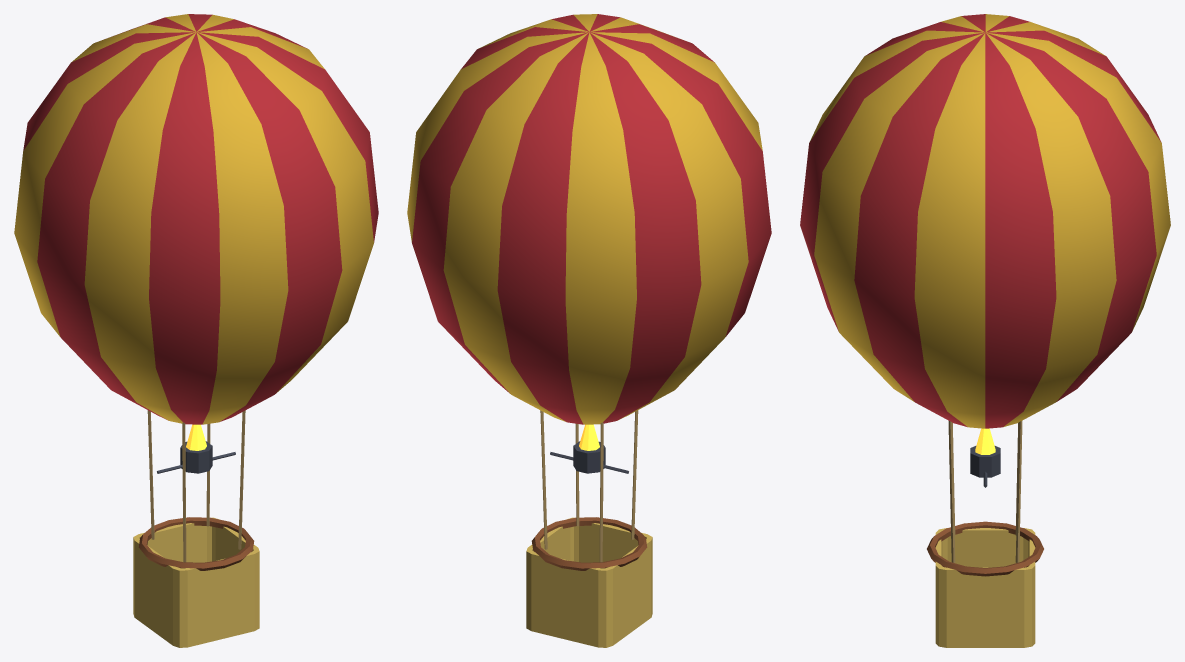
Rendered from pixor-library-hot-air-balloon.glb.
3 views of the same model, side by side, from view 1: azimuth 30°, elevation 25°; view 2: azimuth 150°, elevation 25°; view 3: azimuth 270°, elevation 25° (orthographic).
Parts seen in each view (by area): view 1: Balloon envelope, Balloon basket, Balloon rim, Balloon ropes, Balloon burner; view 2: Balloon envelope, Balloon basket, Balloon rim, Balloon ropes, Balloon burner; view 3: Balloon envelope, Balloon basket, Balloon rim, Balloon ropes, Balloon burner.
Part boxes in pixels (box(x1,y1,x2,y2)): Balloon envelope: box(14, 14, 378, 424); Balloon basket: box(133, 517, 259, 647); Balloon rim: box(138, 517, 254, 570); Balloon ropes: box(147, 410, 245, 562); Balloon burner: box(157, 441, 235, 473); Balloon envelope: box(407, 14, 771, 424); Balloon basket: box(526, 517, 652, 647); Balloon rim: box(531, 517, 647, 570); Balloon ropes: box(540, 410, 638, 562); Balloon burner: box(550, 441, 628, 473); Balloon envelope: box(800, 14, 1170, 428); Balloon basket: box(935, 528, 1035, 647); Balloon rim: box(927, 521, 1043, 576); Balloon ropes: box(948, 421, 1022, 562); Balloon burner: box(970, 446, 1000, 487).
Bounding box in the file's own units: 4.1 × 7.25 × 4.1.
